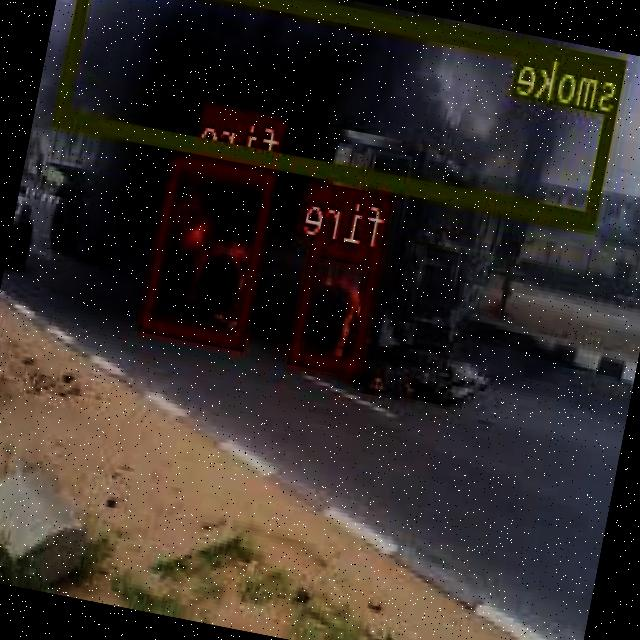fire: (143, 151, 280, 347), (291, 238, 384, 372)
smoke: (56, 0, 628, 227)
